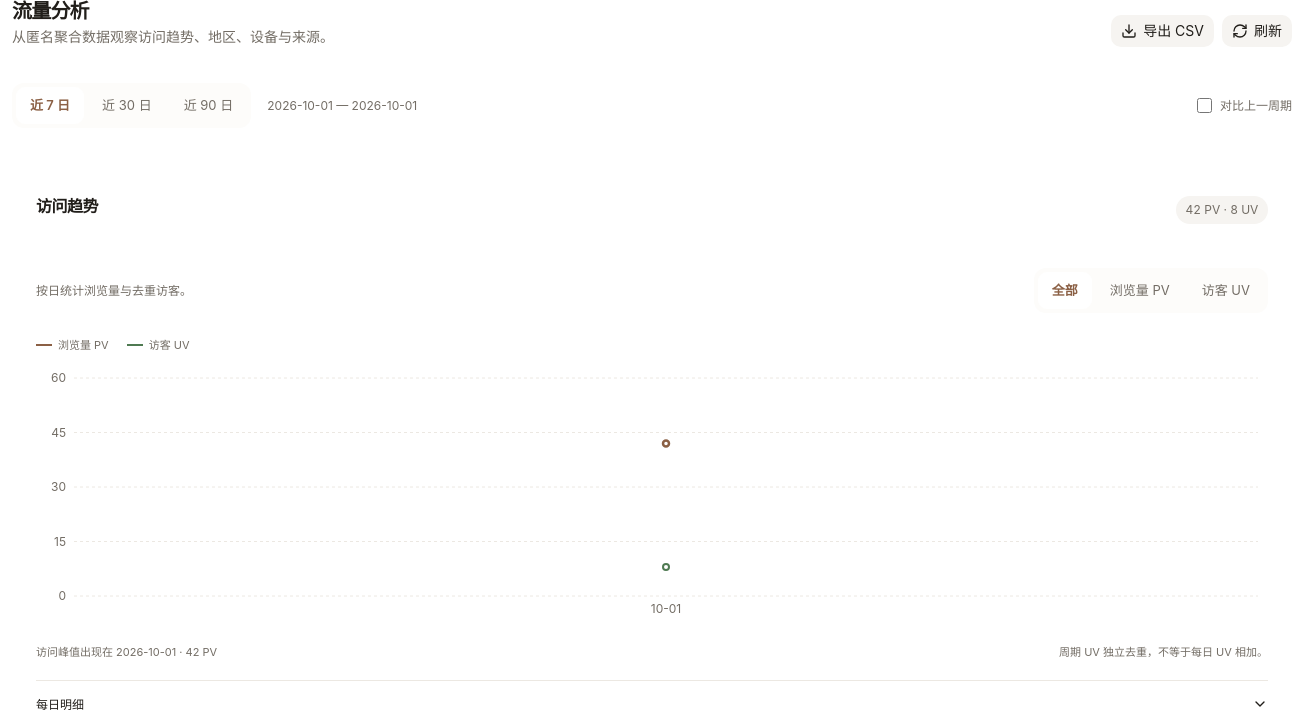
站点运营保留流量分析 › 统一时间范围传给接口并保留其他 URL 参数
The image size is (1304, 720).
expect the text "42 PV · 8 UV" is shown: met, box [1176, 196, 1268, 224]
Step 1. Click the button "近 30 日" → coordinates (127, 105), box [88, 87, 166, 124]
(page scrolled)
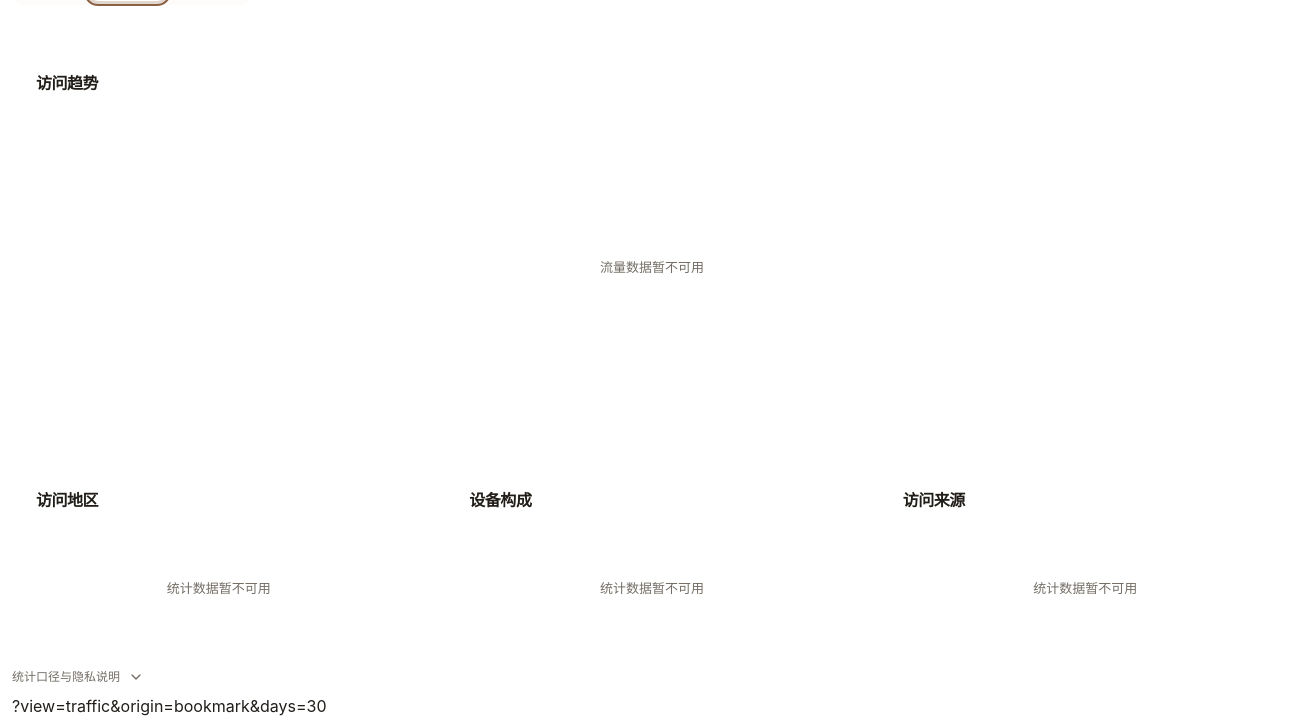
expect the text with test id "operations-route" shows "origin=bookmark&days=30": met, box [12, 696, 327, 716]
expect the text "42 PV · 8 UV" is gone: met
